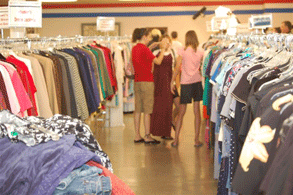Age_20_30: (134, 28, 153, 46)
E_White: (134, 28, 153, 46)
Emotion_Neutral: (134, 28, 153, 46)
G_ Female: (134, 28, 153, 46)
Not_Face: (185, 26, 199, 46), (160, 35, 172, 48)
